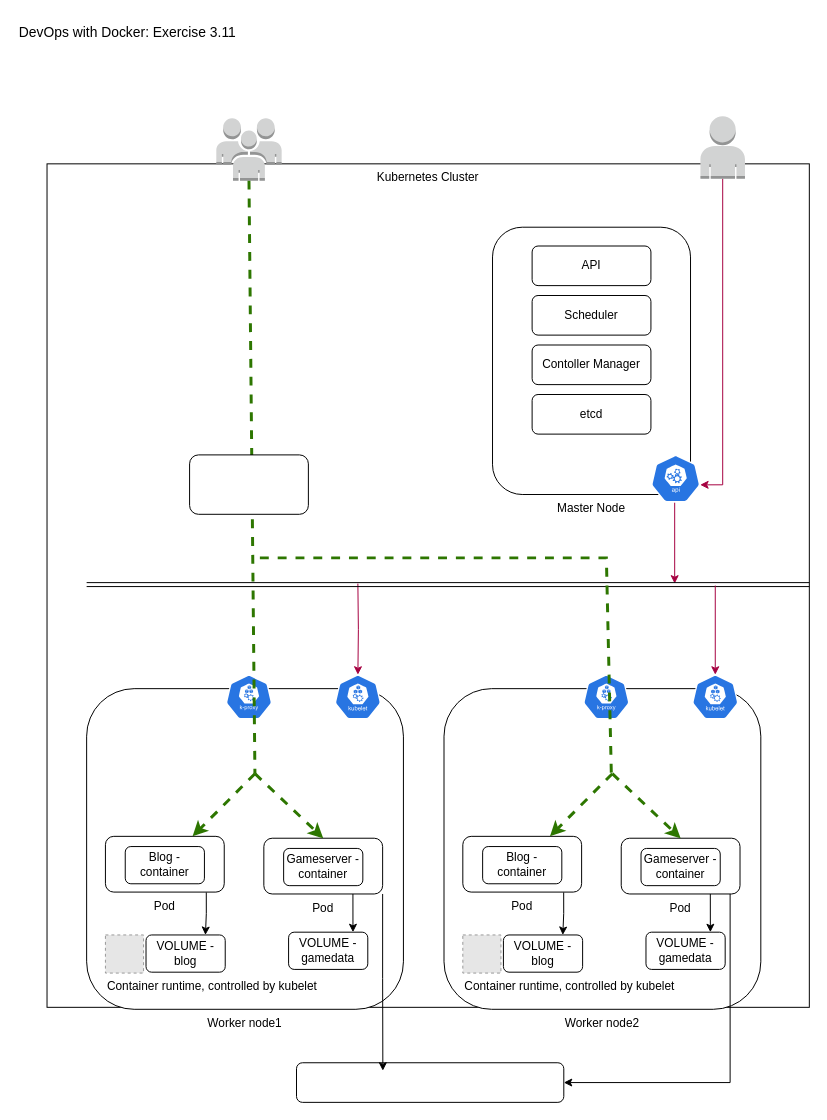
Some shapes in this 827 by 1120 pixel diagram are drawn without their labels. Grey dashed boxes stand in for pictures. Each missing label, with the centre of its shape:
"Blog and gameserver users, http traffic to applications from internet" goes at (248,149).
"Cluster administration via api" goes at (722,147).
"External VOLUME for userdata (AWS EBS)" goes at (430,1082).
"Service: blog gameserver" goes at (248,484).
